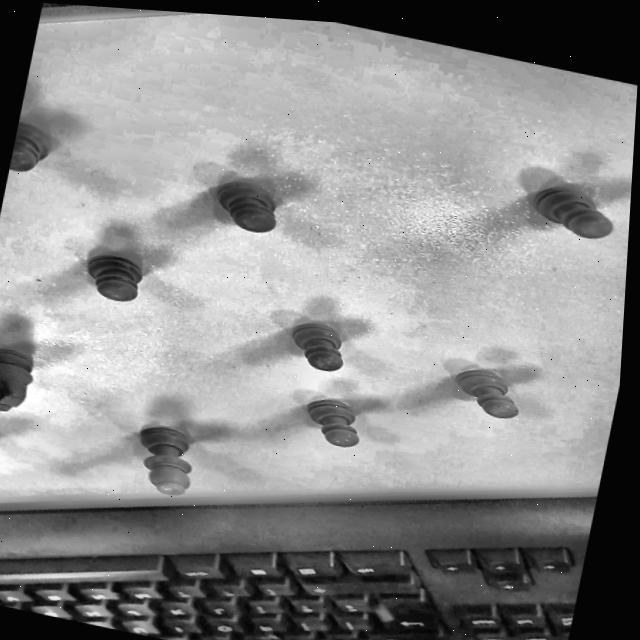white-bishop: (129, 406, 208, 503), (0, 406, 21, 501)
white-knight: (0, 323, 60, 419)
white-pawn: (510, 149, 633, 266), (199, 159, 299, 245), (277, 297, 364, 382), (75, 237, 159, 314), (453, 349, 531, 430), (291, 381, 376, 454), (5, 105, 72, 191)
